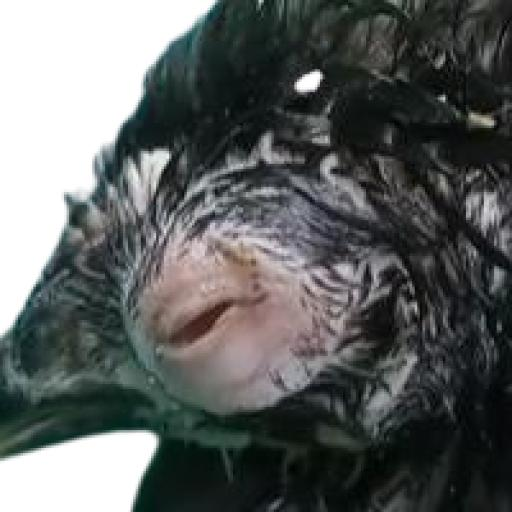disease: (122, 248, 314, 413)
